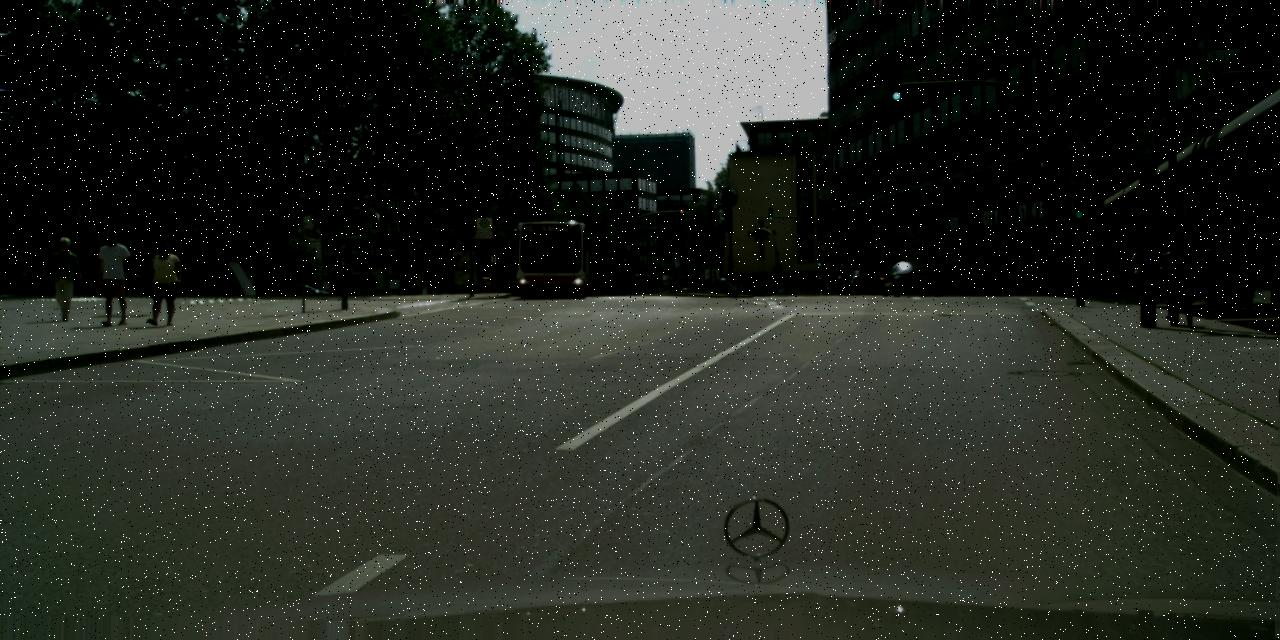ped: (93, 230, 133, 326), (146, 238, 181, 326), (46, 236, 81, 321), (1230, 230, 1260, 304), (1166, 231, 1196, 303), (1127, 240, 1153, 304), (1199, 237, 1225, 301), (1107, 242, 1132, 304), (1047, 248, 1064, 290), (836, 262, 846, 289), (810, 272, 819, 294), (412, 272, 420, 294), (826, 274, 834, 294)
